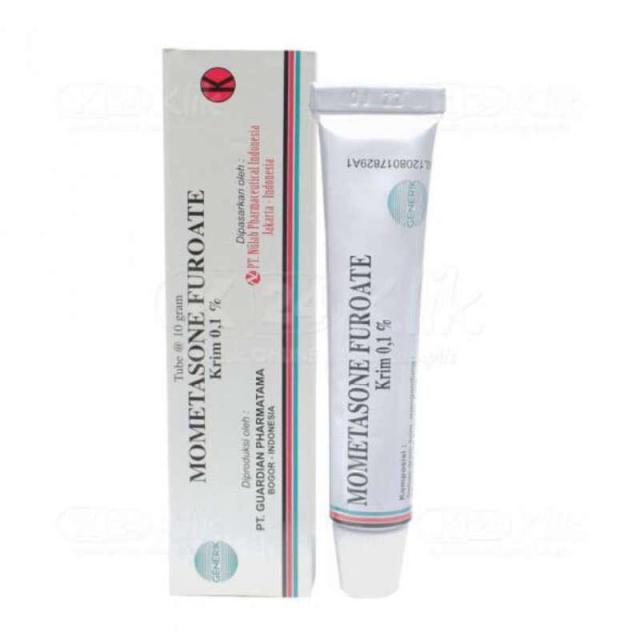drug-name: (180, 184, 214, 493)
